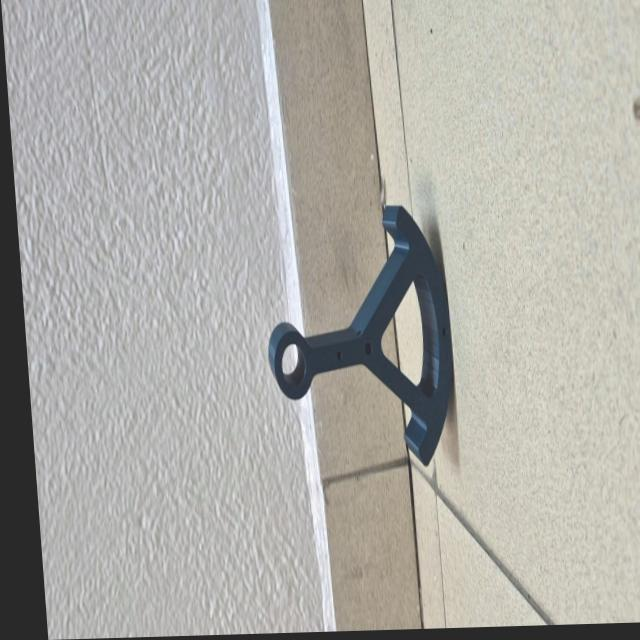haptic: (255, 201, 461, 472)
